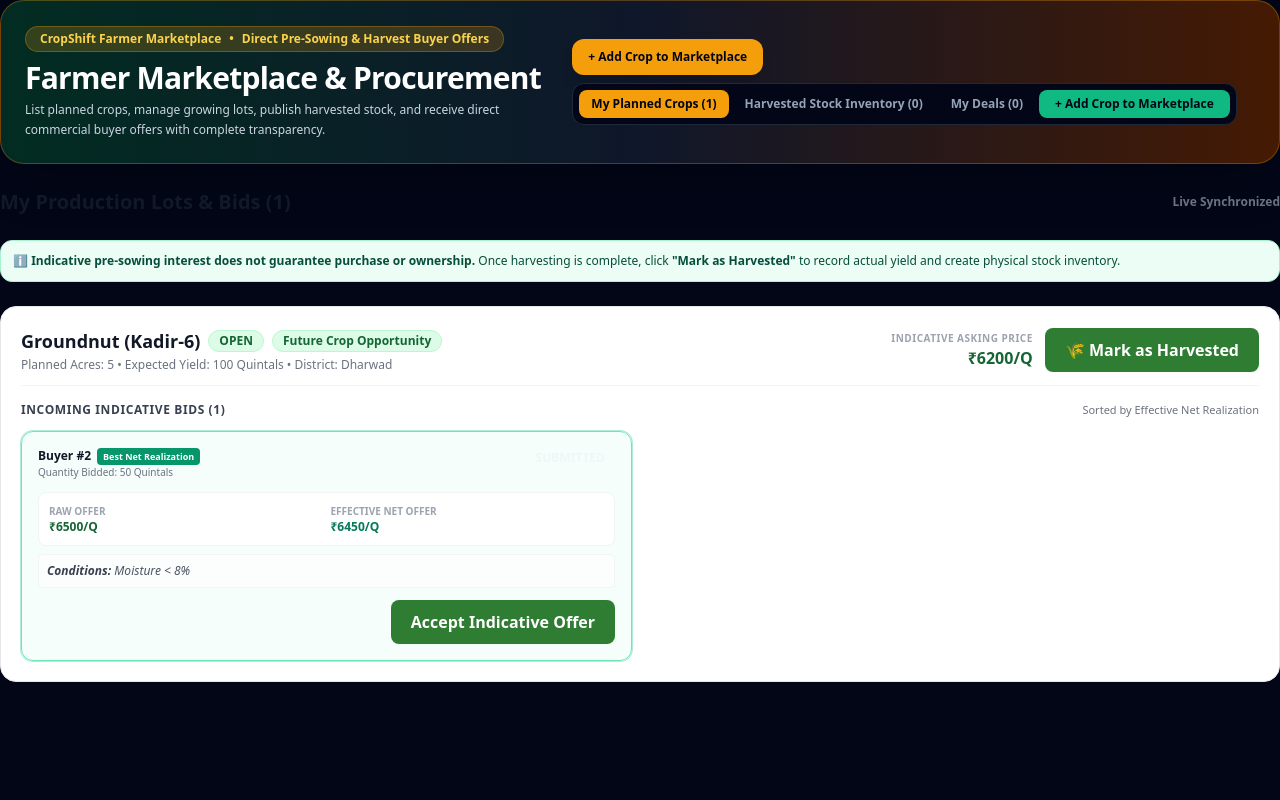
Phase 5C — Live Frontend Bidding Integration Test Suite › 11. Farmer can accept an indicative bid
The image size is (1280, 800).
Step 1. Click the button "Accept Indicative Offer" → (503, 622), box [391,600,615,644]
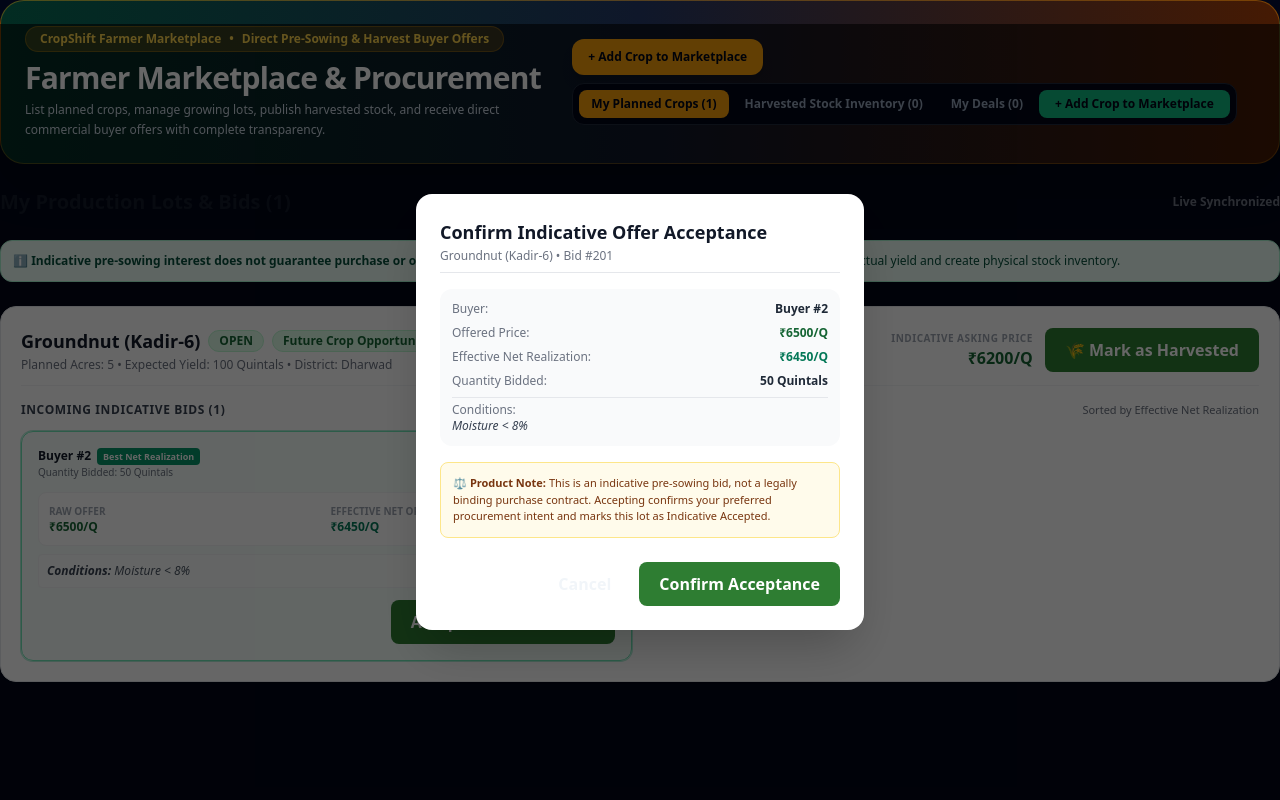
Step 2. Click the button "Confirm Acceptance" → (740, 584), box [639,562,840,606]
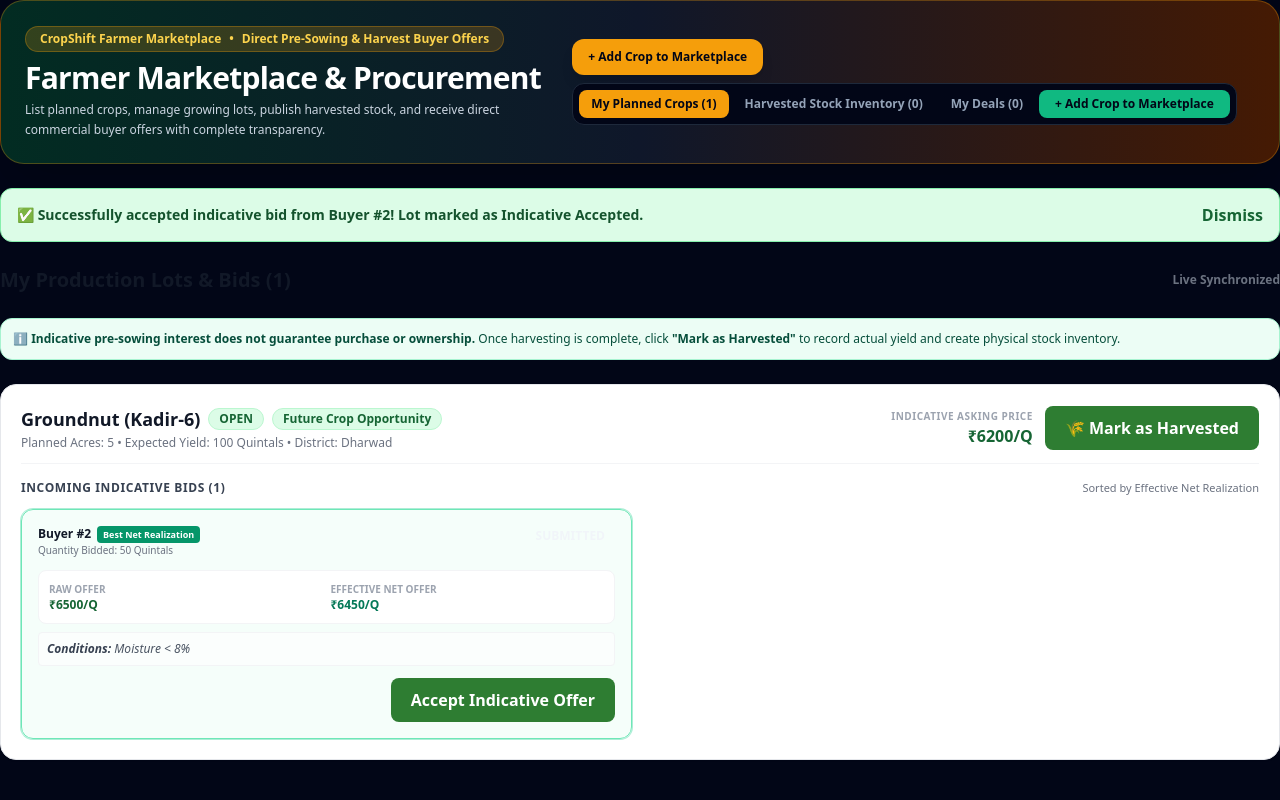
Result: the text "Successfully accepted indicative bid" is shown at [38,205,643,224]
